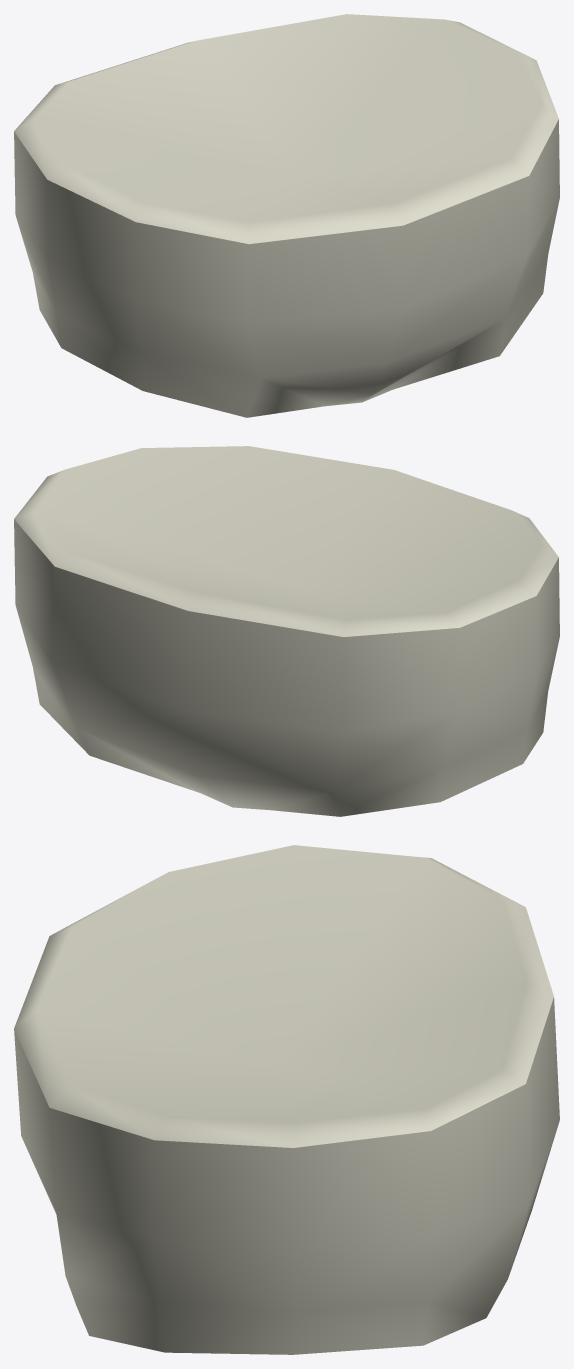
Rendered from Bottom_61.fbx.
The picture shows the model from 3 angles, top to bottom: view 1: azimuth 30°, elevation 25°; view 2: azimuth 150°, elevation 25°; view 3: azimuth 270°, elevation 25°; orthographic projection. The views are drawn at different scales.
Parts seen in each view (by area): view 1: Bottom_61; view 2: Bottom_61; view 3: Bottom_61.
Part boxes in pixels (<box>): Bottom_61: <box>14,14,559,417</box>; Bottom_61: <box>14,446,559,816</box>; Bottom_61: <box>14,845,559,1354</box>.
Bounding box in the file's own units: 38.53 × 18.35 × 29.68.
